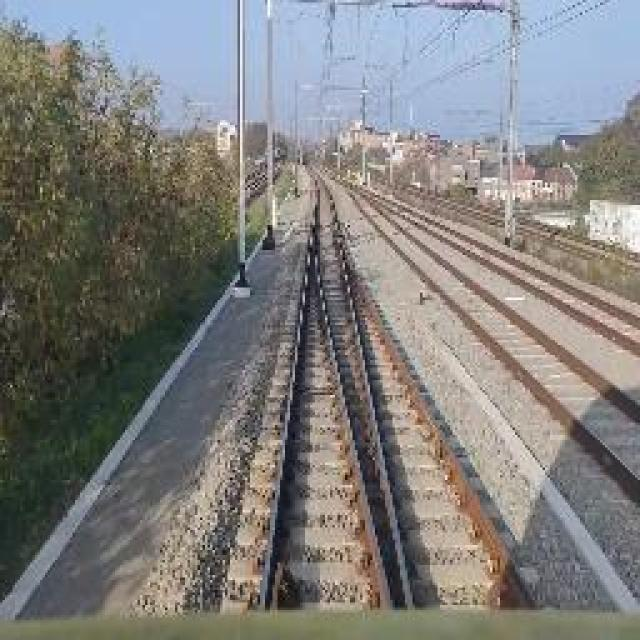rail: (210, 157, 568, 620), (332, 174, 640, 544)
